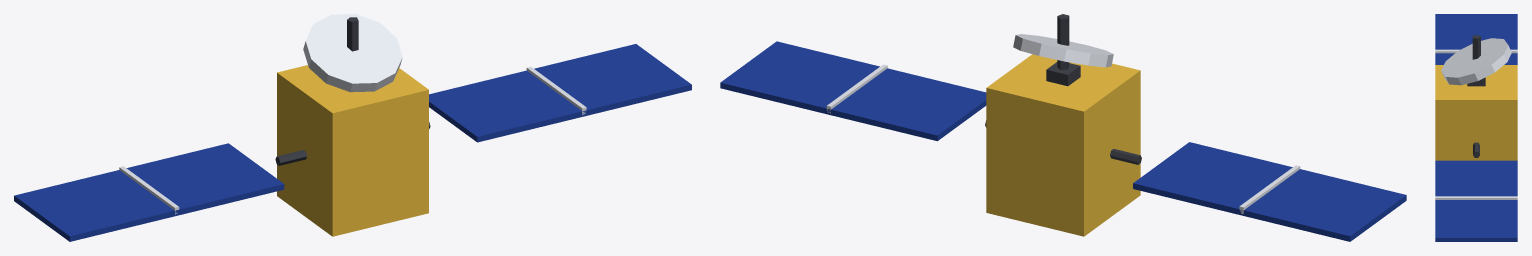
Rendered from lowpoly-satellite_a.glb.
The picture shows the model from 3 angles, left to right: view 1: azimuth 30°, elevation 25°; view 2: azimuth 150°, elevation 25°; view 3: azimuth 270°, elevation 25°; orthographic projection. The views are drawn at different scales.
Parts seen in each view (by area): view 1: satellite_a; view 2: satellite_a; view 3: satellite_a.
Boxes of the visible parts, bbox=[...] form: satellite_a: bbox=[14, 14, 691, 241]; satellite_a: bbox=[720, 14, 1406, 241]; satellite_a: bbox=[1435, 14, 1517, 241].
Bounding box in the file's own units: 5.8 × 1.65 × 0.9.
